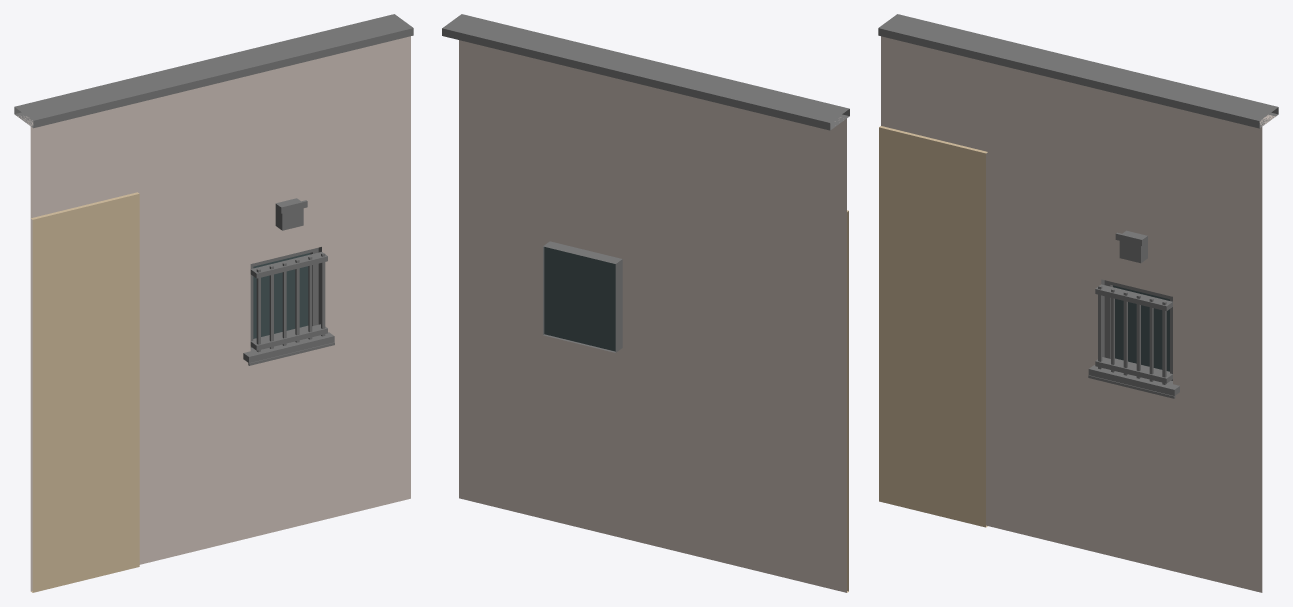
The model's file is top-w4_close.fbx.
3 renders of one model, left to right at view 1: azimuth 30°, elevation 25°; view 2: azimuth 150°, elevation 25°; view 3: azimuth 330°, elevation 25°, orthographic. The views are drawn at different scales.
Parts seen in each view (by area): view 1: a2001/200/top-w4_close; view 2: a2001/200/top-w4_close; view 3: a2001/200/top-w4_close.
Boxes of the visible parts, x1=… form: a2001/200/top-w4_close: x1=14, y1=14, x2=413, y2=592; a2001/200/top-w4_close: x1=442, y1=14, x2=849, y2=592; a2001/200/top-w4_close: x1=878, y1=14, x2=1278, y2=592.
Size of the model in its own units: 3.2 by 3.8 by 0.36.
